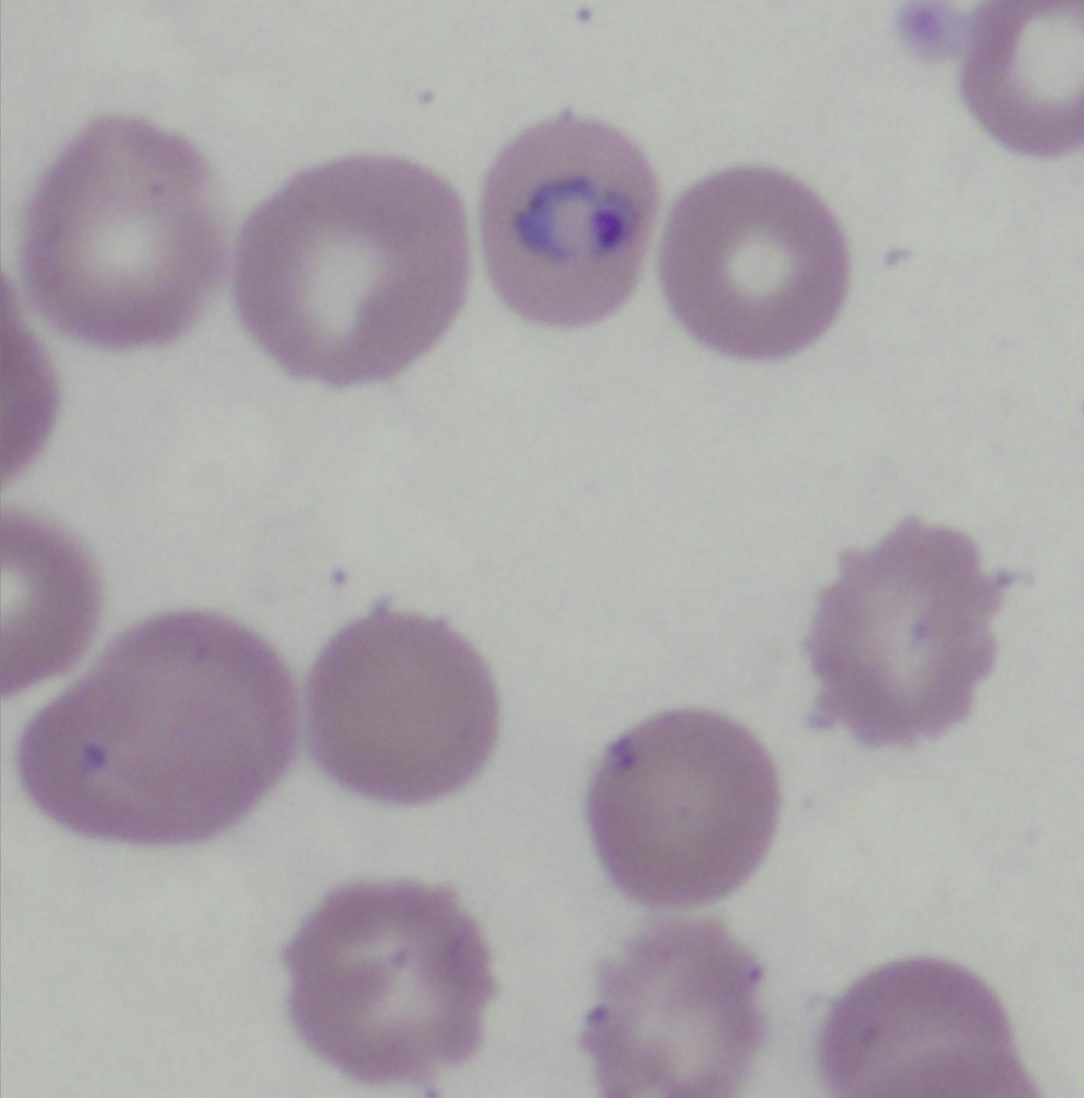Infected: (483, 115, 665, 332)
Uninfected: (18, 608, 302, 856), (236, 156, 470, 390), (20, 113, 236, 356), (803, 514, 1002, 747), (277, 867, 497, 1074), (587, 704, 780, 912), (307, 610, 501, 808), (663, 161, 850, 366), (818, 956, 1038, 1098), (590, 918, 758, 1098), (956, 0, 1083, 161)
